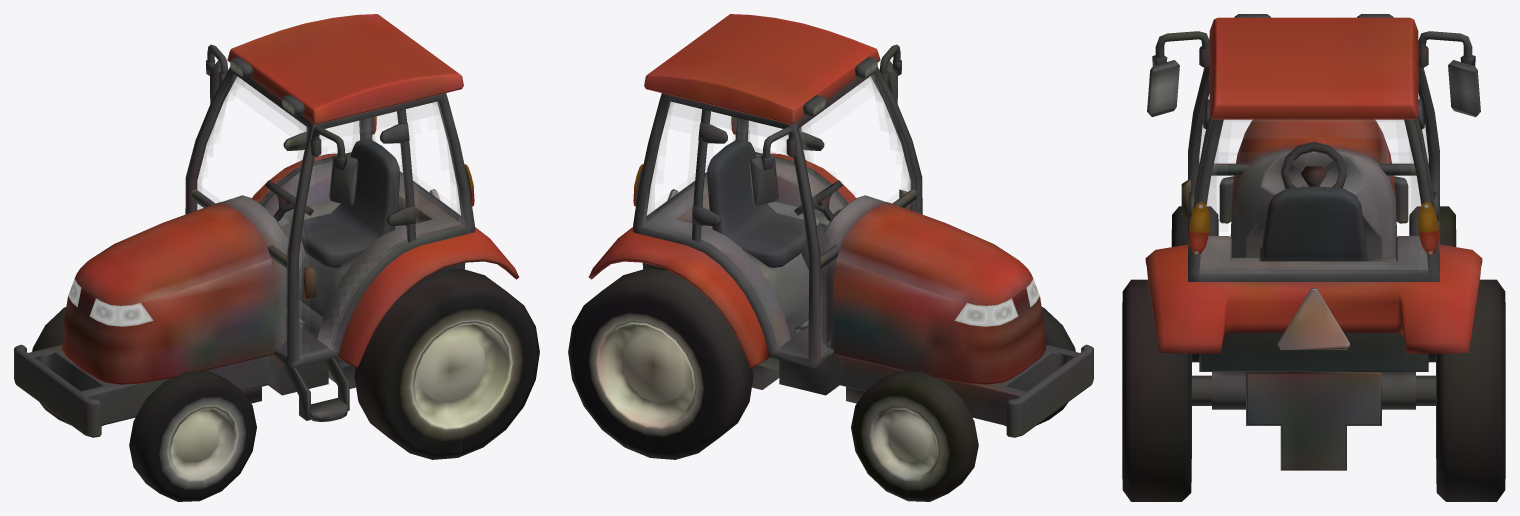
3 views of the same model, side by side, from view 1: azimuth 30°, elevation 25°; view 2: azimuth 150°, elevation 25°; view 3: azimuth 270°, elevation 25° (orthographic). The views are drawn at different scales.
Bounding box in the file's own units: 19.48 × 16.08 × 13.24.
4 materials, 4 textured.
